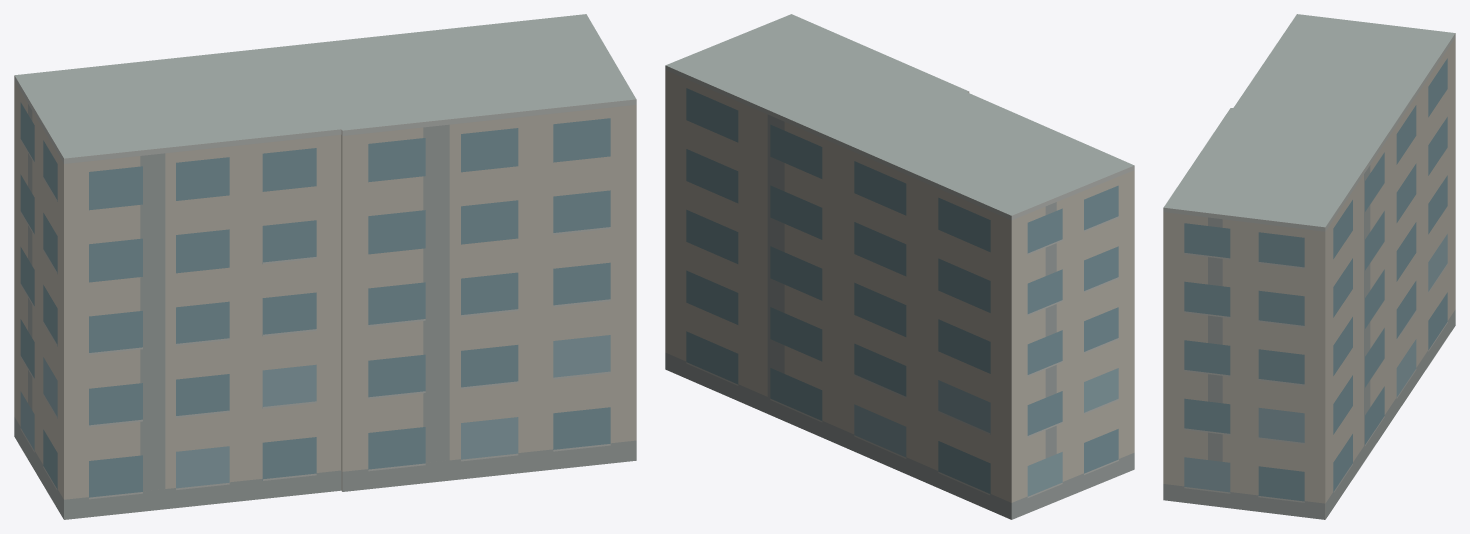
Rendered from survey-upis-32763822.glb.
The picture shows the model from 3 angles, left to right: view 1: azimuth 30°, elevation 25°; view 2: azimuth 150°, elevation 25°; view 3: azimuth 270°, elevation 25°; orthographic projection. The views are drawn at different scales.
Visible parts, largest first — view 1: survey-upis-32763822.tmp; view 2: survey-upis-32763822.tmp; view 3: survey-upis-32763822.tmp.
Part boxes in pixels (x1,y1,x2,y2): survey-upis-32763822.tmp: (14,14,636,519); survey-upis-32763822.tmp: (665,14,1134,519); survey-upis-32763822.tmp: (1163,14,1455,519).
Bounding box in the file's own units: 25.5 × 16.3 × 14.76.
